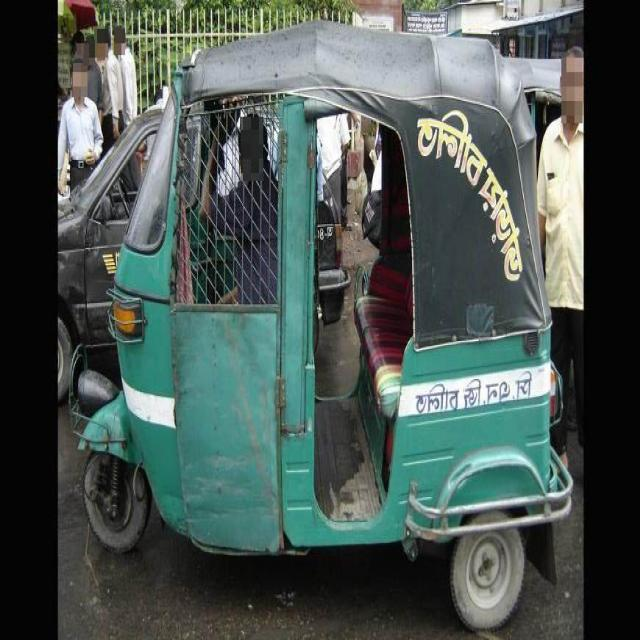CNG: (49, 15, 608, 636)
